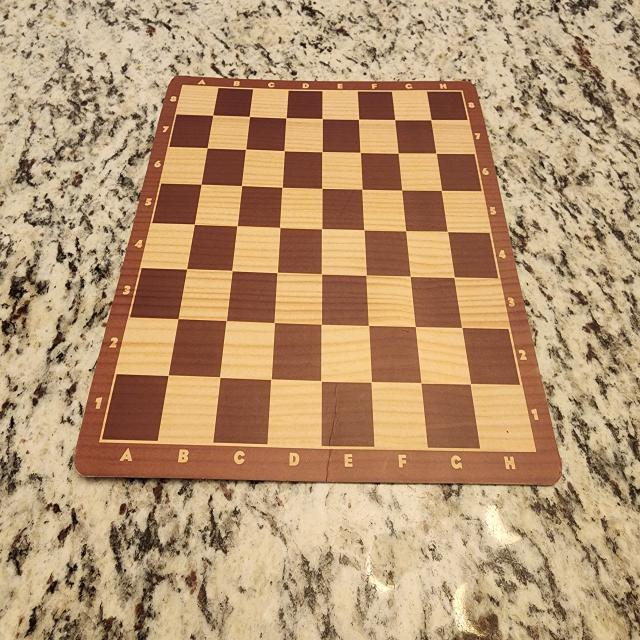Bottom-Left: (102, 377, 168, 443)
Bottom-Right: (470, 385, 536, 453)
Top-Left: (182, 84, 215, 115)
Top-Right: (426, 91, 468, 120)
